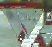Give way: (0, 4, 46, 46)
